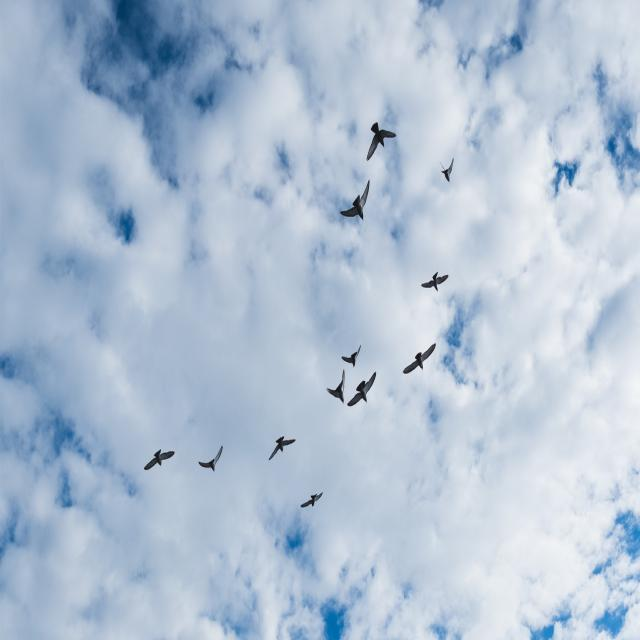bird: (358, 98, 407, 169), (264, 411, 302, 474), (335, 174, 377, 230), (190, 428, 233, 479), (318, 358, 352, 422), (399, 335, 441, 386), (138, 430, 179, 474), (352, 360, 375, 438), (300, 482, 332, 526), (337, 327, 363, 378), (414, 262, 450, 296), (438, 156, 460, 208)
